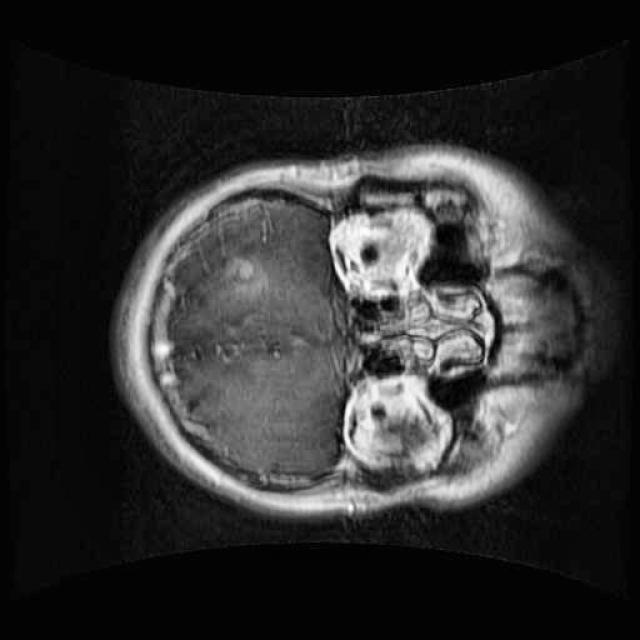Non-Tumor: (194, 249, 271, 329)
